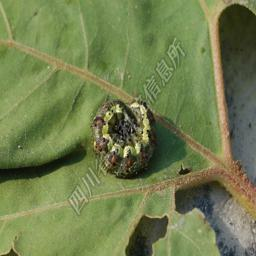Tobacco_budworm: (90, 94, 157, 180)
